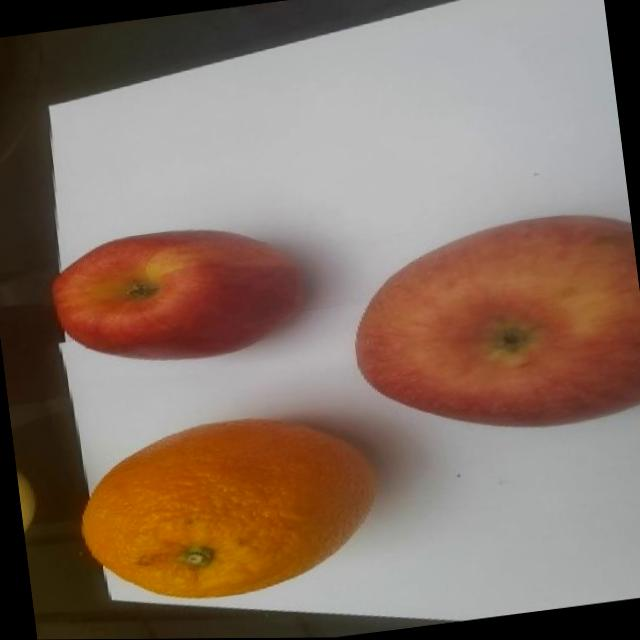Apple: (342, 206, 640, 452), (46, 214, 312, 378)
Orange: (71, 403, 389, 616)
